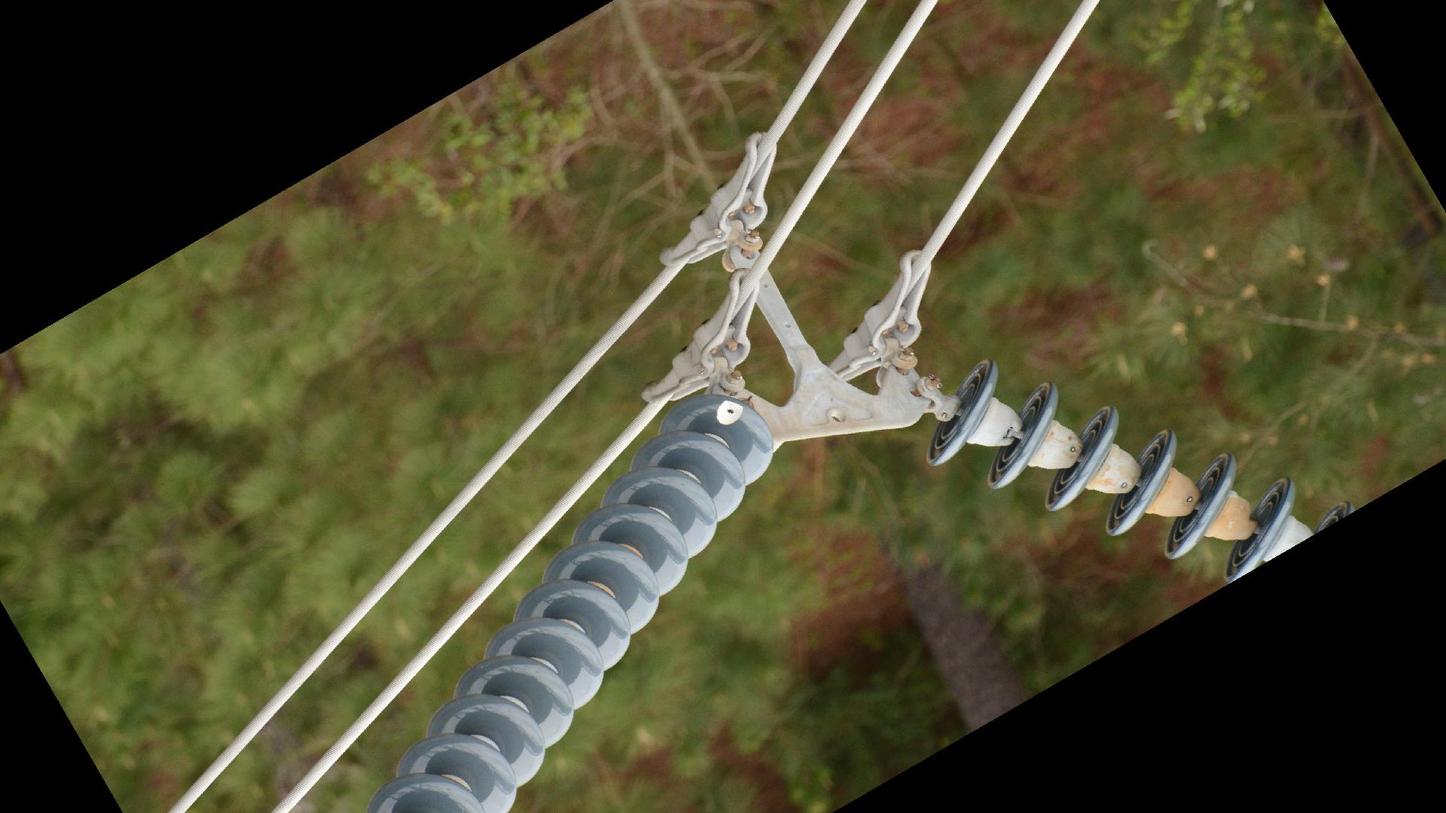insulator: (366, 386, 782, 813), (920, 353, 1304, 587)
insulator_breakage: (712, 395, 747, 428)
